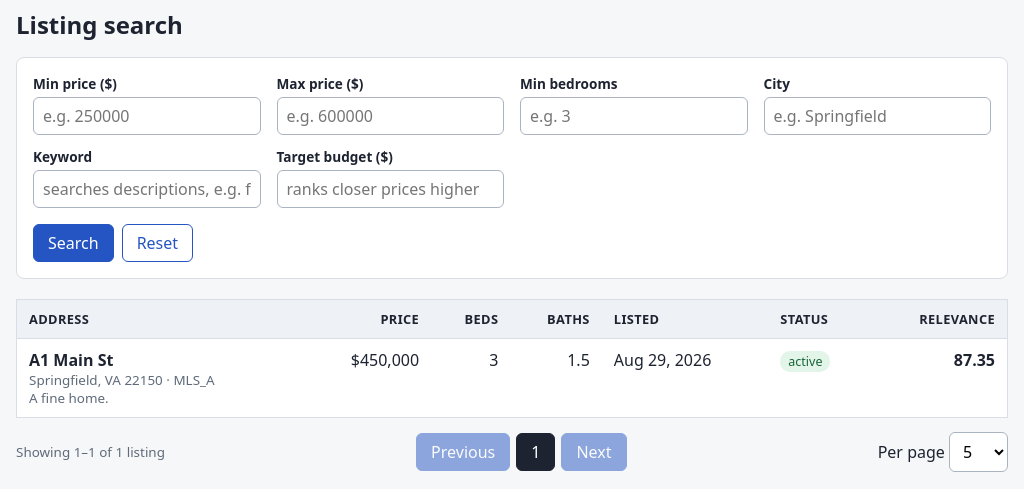
Test case: App › shows a server validation error beside the field it concerns and in an alert
The width and height of the screenshot is (1024, 489).
Expected: the text "A1 Main St" is shown, [29,349,113,371]
Type "!!!" into the field labelled "Keyword". click: (147, 189)
box: [33,170,260,208]
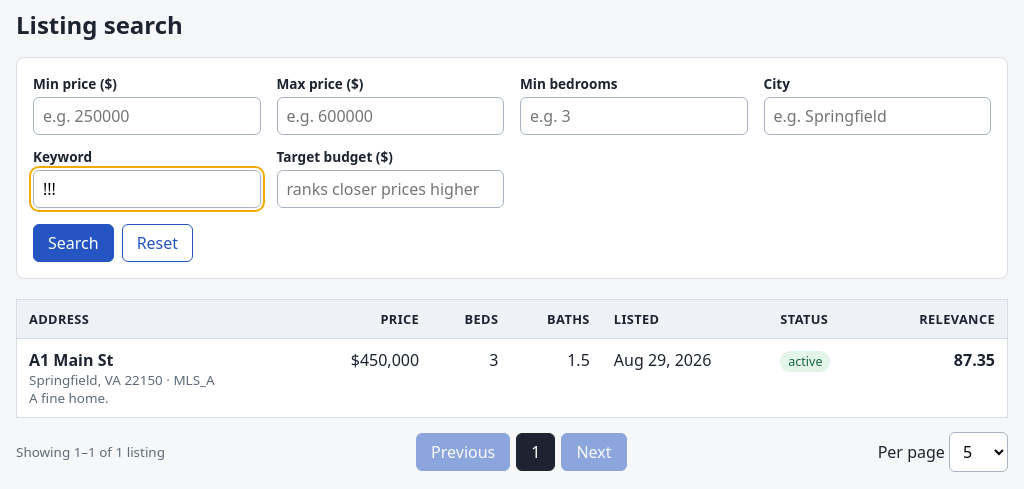
Click the button "Search". click: click(73, 243)
box: [33,224,114,262]
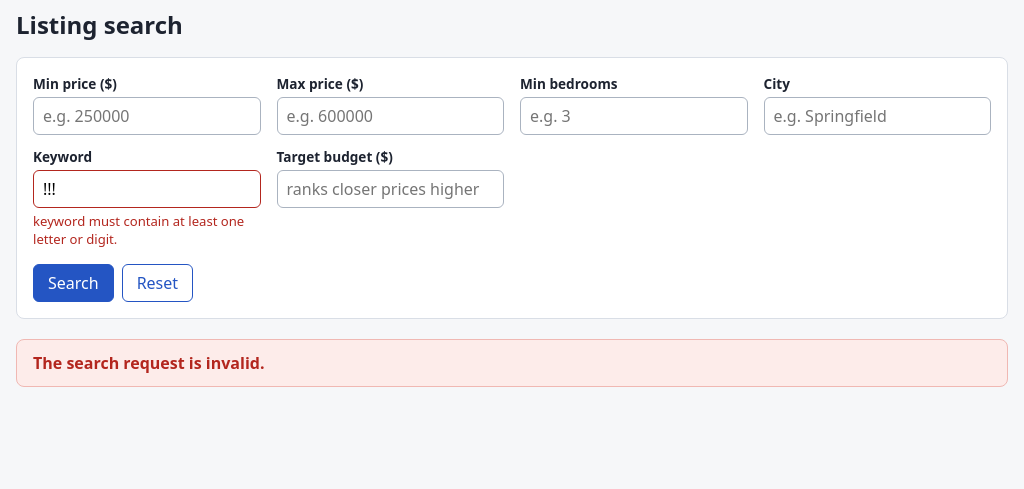
Expected: the message reads "The search request is invalid.", [33,352,264,374]
Expected: the text "keyword must contain at least one letter or digit." is shown, [33,212,260,248]
Expected: the table is gone
